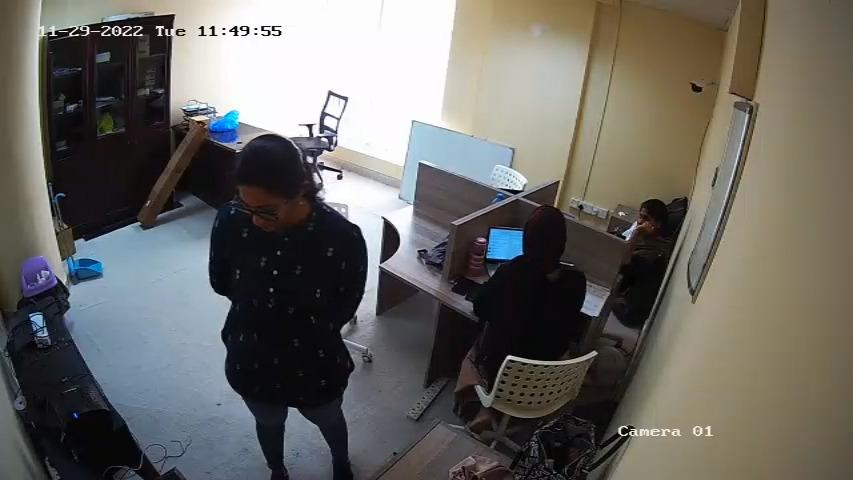no_apron: (223, 235, 340, 414)
